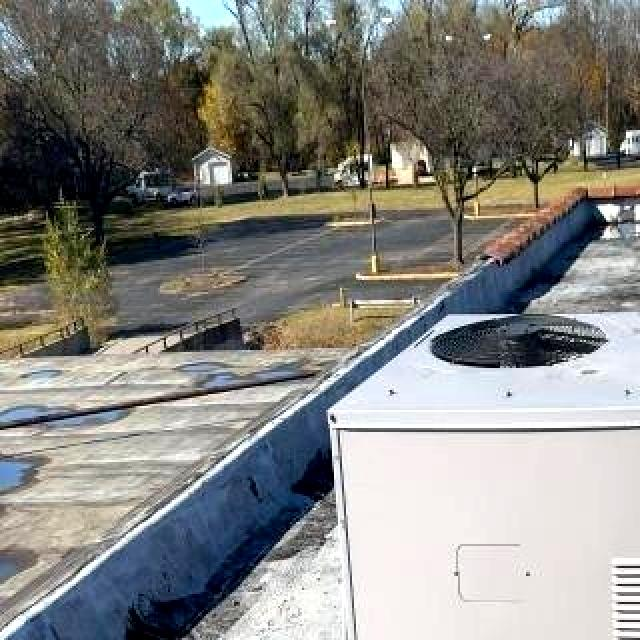RTU: (306, 298, 640, 640)
